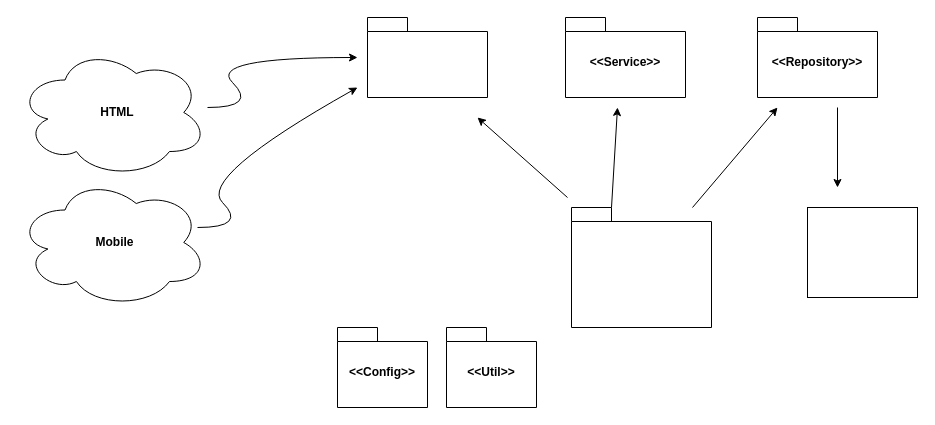
Some shapes in this 935 by 425 pixel diagram are drawn without their labels. Here are the shapes that lost their labels. From the top down, the centre of each, then its label:
At pixel 427 57: "<<Controller>>".
At pixel 641 267: "<<Domain>>".
At pixel 862 252: "MSQL".
